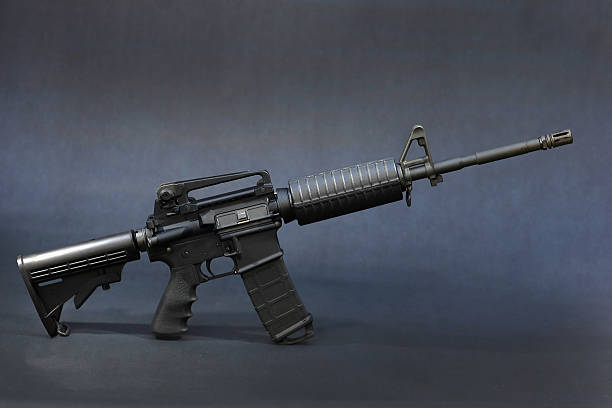rifle: (17, 112, 583, 356)
